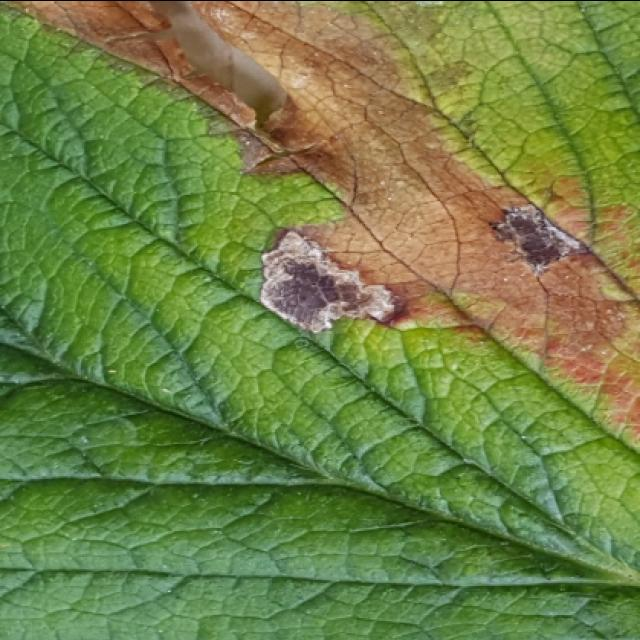Angular Leafspot: (2, 2, 638, 456)
